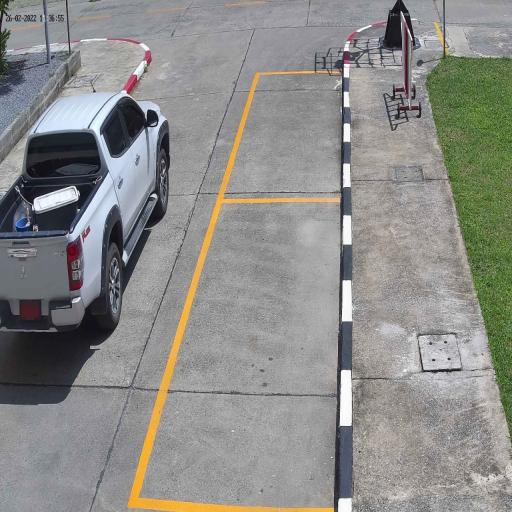car: (0, 89, 172, 337)
